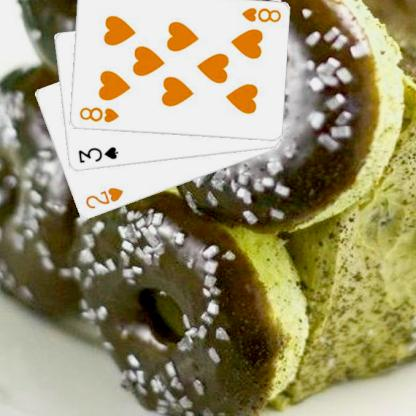2H: (82, 184, 125, 210)
3S: (75, 144, 119, 165)
8H: (76, 104, 120, 124), (239, 5, 282, 24)
